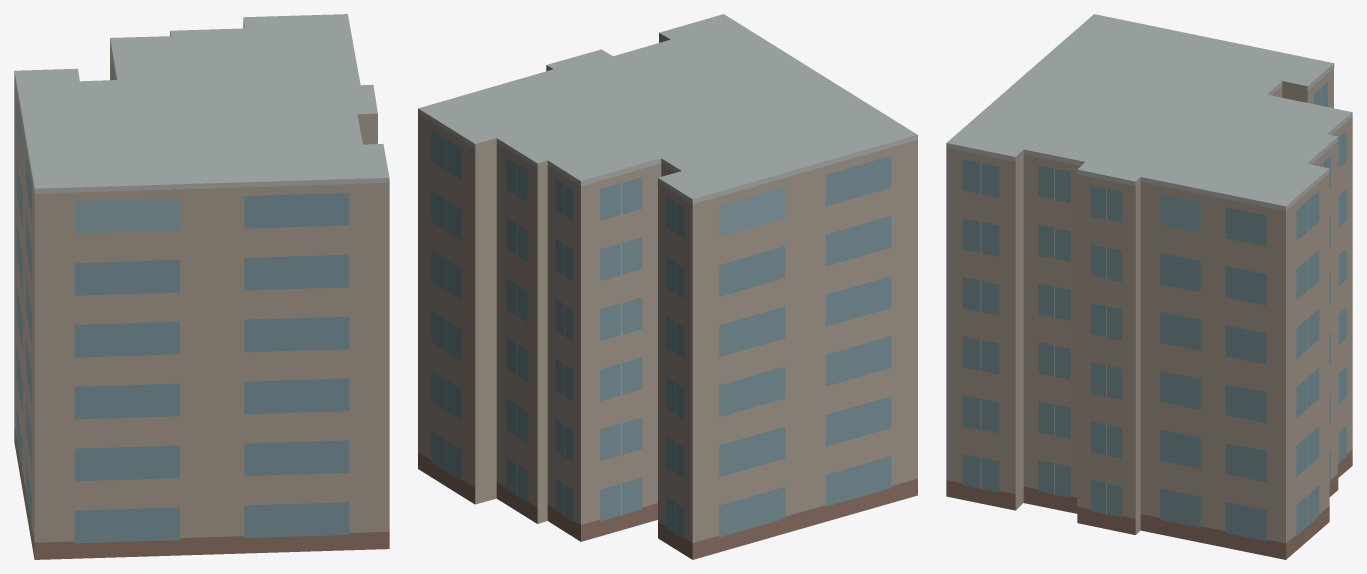
Rendered from survey-upis-32940672.glb.
3 views of the same model, side by side, from view 1: azimuth 30°, elevation 25°; view 2: azimuth 150°, elevation 25°; view 3: azimuth 270°, elevation 25° (orthographic). The views are drawn at different scales.
Visible parts, largest first — view 1: survey-upis-32940672.tmp; view 2: survey-upis-32940672.tmp; view 3: survey-upis-32940672.tmp.
Boxes of the visible parts, x1,y1,x2,y2 form: survey-upis-32940672.tmp: (14, 14, 389, 559); survey-upis-32940672.tmp: (418, 14, 917, 559); survey-upis-32940672.tmp: (946, 14, 1352, 559).
Size of the model in its own units: 21.01 by 18 by 18.75.
